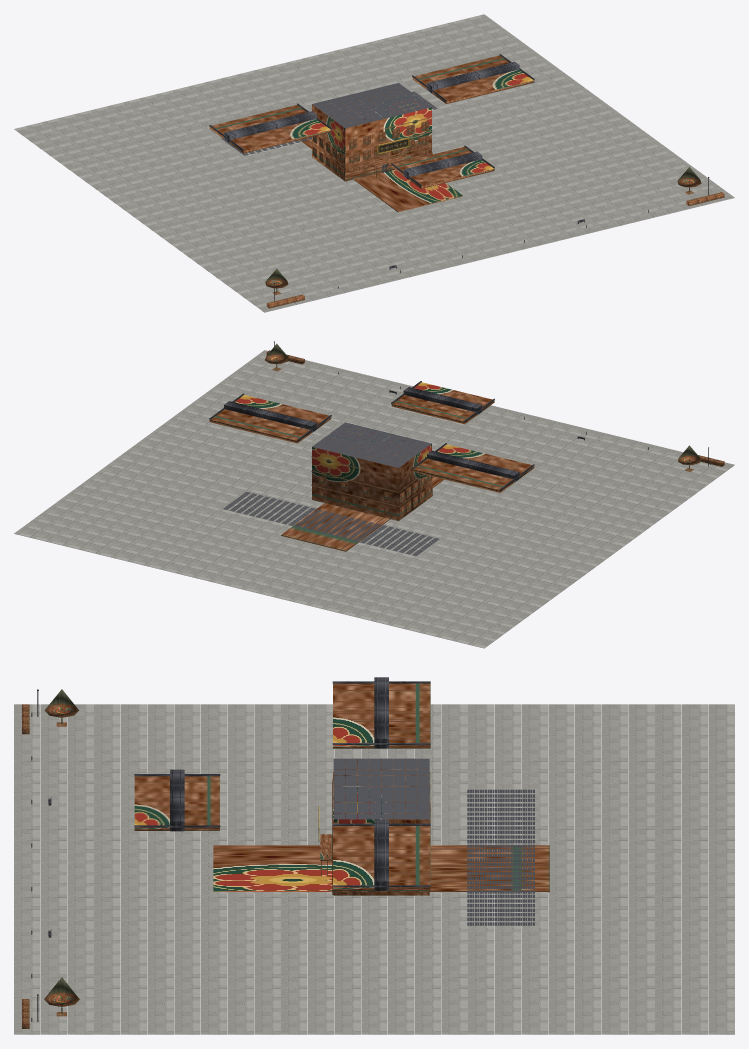
3 views of the same model, one above another, from view 1: azimuth 30°, elevation 25°; view 2: azimuth 150°, elevation 25°; view 3: azimuth 270°, elevation 25° (orthographic). The views are drawn at different scales.
Visible parts, largest first — view 1: 11710_01_05716_040_01__plinth_ground_base, 11710_01_05716_040_02__mass_body_facade, 11710_01_05716_040_03__roof_deck_structure, 11710_01_05716_040_03__roof_metal_ornament, 11710_01_05716_040_06__landscape_greenery, 11710_01_05716_040_05__window_sash_glass; view 2: 11710_01_05716_040_01__plinth_ground_base, 11710_01_05716_040_02__mass_body_facade, 11710_01_05716_040_03__roof_deck_structure, 11710_01_05716_040_03__roof_metal_ornament, 11710_01_05716_040_06__landscape_greenery; view 3: 11710_01_05716_040_01__plinth_ground_base, 11710_01_05716_040_02__mass_body_facade, 11710_01_05716_040_03__roof_deck_structure, 11710_01_05716_040_03__roof_metal_ornament, 11710_01_05716_040_06__landscape_greenery.
Part boxes in pixels (<box>): 11710_01_05716_040_01__plinth_ground_base: <box>14,14,734,312</box>; 11710_01_05716_040_02__mass_body_facade: <box>209,55,534,212</box>; 11710_01_05716_040_03__roof_deck_structure: <box>221,83,437,155</box>; 11710_01_05716_040_03__roof_metal_ornament: <box>209,54,534,186</box>; 11710_01_05716_040_06__landscape_greenery: <box>265,167,724,308</box>; 11710_01_05716_040_05__window_sash_glass: <box>349,120,428,176</box>; 11710_01_05716_040_01__plinth_ground_base: <box>14,350,734,648</box>; 11710_01_05716_040_02__mass_body_facade: <box>209,382,534,551</box>; 11710_01_05716_040_03__roof_deck_structure: <box>223,422,439,555</box>; 11710_01_05716_040_03__roof_metal_ornament: <box>209,381,534,490</box>; 11710_01_05716_040_06__landscape_greenery: <box>265,343,724,471</box>; 11710_01_05716_040_01__plinth_ground_base: <box>14,704,734,1034</box>; 11710_01_05716_040_02__mass_body_facade: <box>134,683,549,895</box>; 11710_01_05716_040_03__roof_deck_structure: <box>333,758,534,925</box>; 11710_01_05716_040_03__roof_metal_ornament: <box>134,677,430,890</box>; 11710_01_05716_040_06__landscape_greenery: <box>22,689,79,1028</box>.
Bounding box in the file's own units: 130 × 16.6 × 120.
7 materials, 7 textured.
